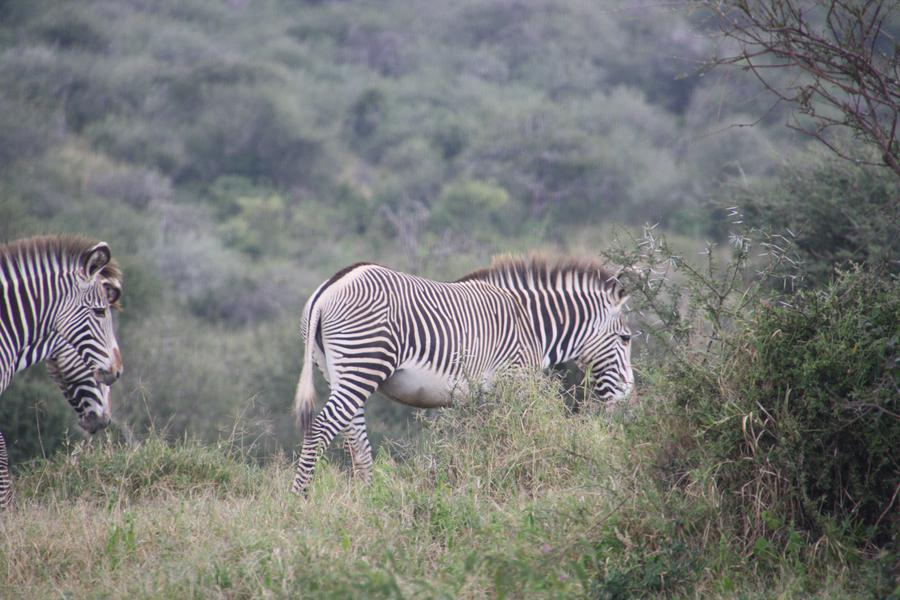zebra_grevys: (305, 244, 537, 371)
